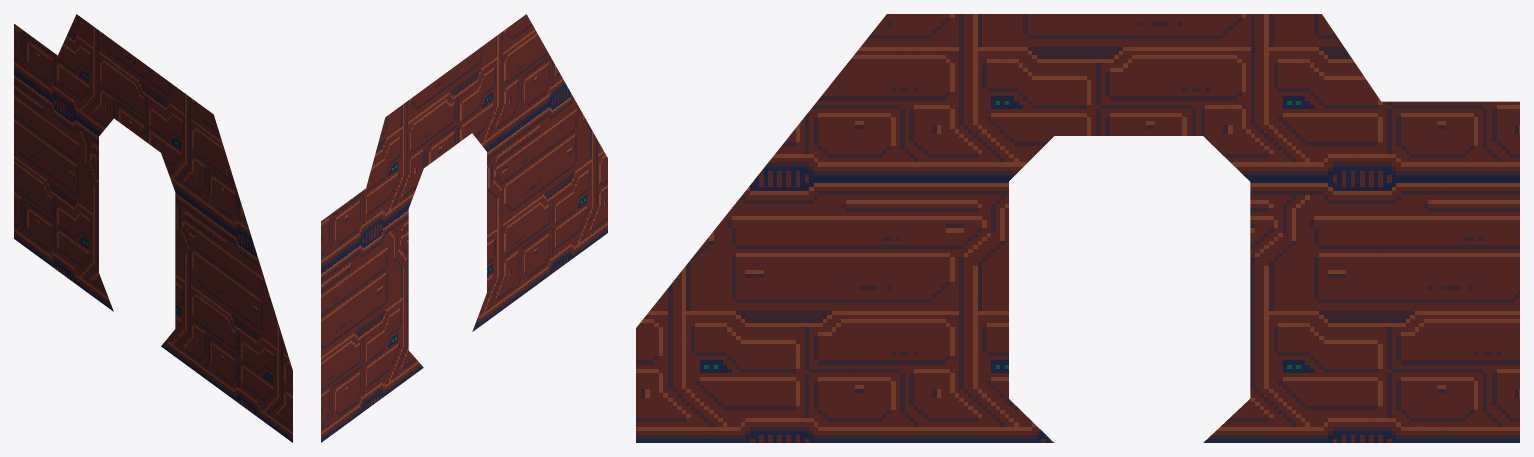
The model's file is Wall_R.fbx.
3 renders of one model, left to right at view 1: azimuth 30°, elevation 25°; view 2: azimuth 150°, elevation 25°; view 3: azimuth 270°, elevation 25°, orthographic. The views are drawn at different scales.
Parts seen in each view (by area): view 1: Wall_R; view 2: Wall_R; view 3: Wall_R.
Boxes of the visible parts, left/top/right/bottom form: Wall_R: left=14, top=14, right=292, bottom=442; Wall_R: left=321, top=14, right=607, bottom=442; Wall_R: left=636, top=14, right=1519, bottom=442.
Size of the model in its own units: 0 by 427 by 798.
